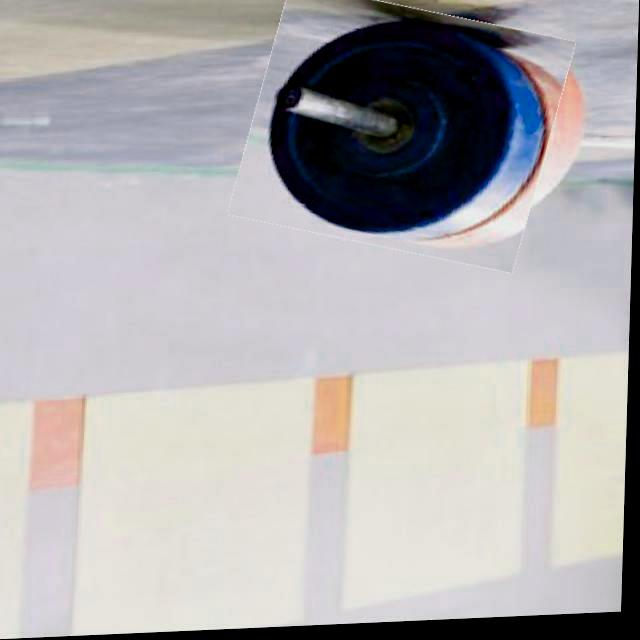barbell: (241, 1, 567, 272)
